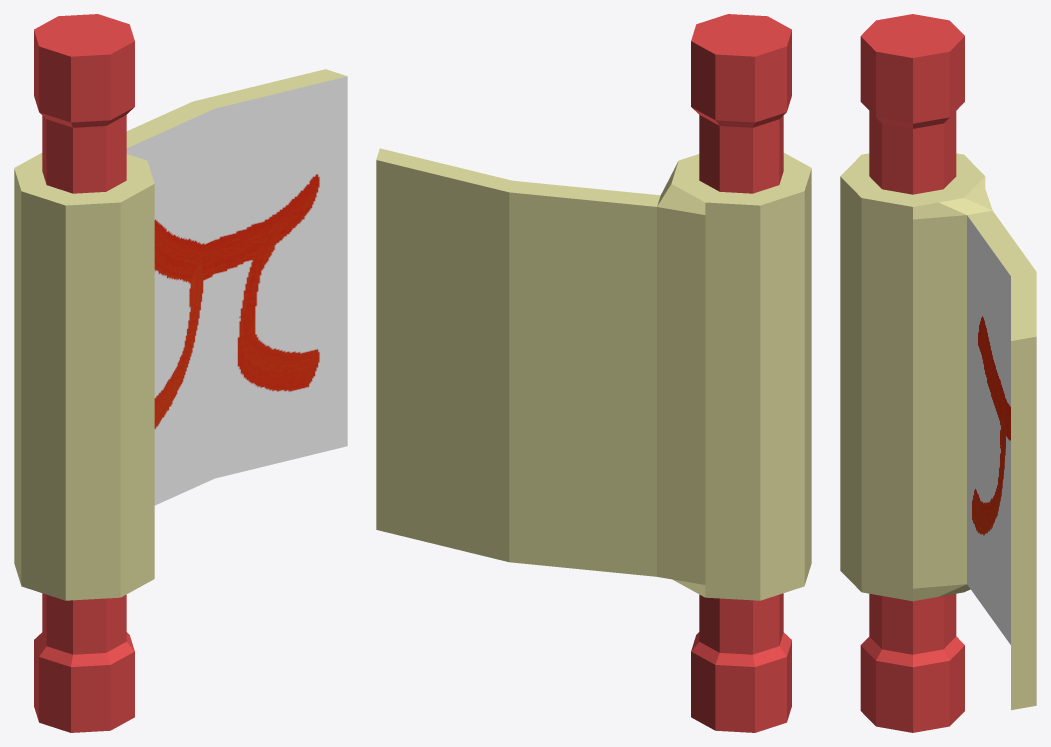
File: scroll.glb
3 renders of one model, left to right at view 1: azimuth 30°, elevation 25°; view 2: azimuth 150°, elevation 25°; view 3: azimuth 270°, elevation 25°, orthographic.
Parts seen in each view (by area): view 1: Circle; view 2: Circle; view 3: Circle.
Part boxes in pixels (bbox=[...]): Circle: bbox=[14, 14, 347, 732]; Circle: bbox=[376, 14, 811, 732]; Circle: bbox=[840, 14, 1036, 732].
Bounding box in the file's own units: 5.97 × 10.27 × 2.71.
Materials: 3 (1 with a texture image).
